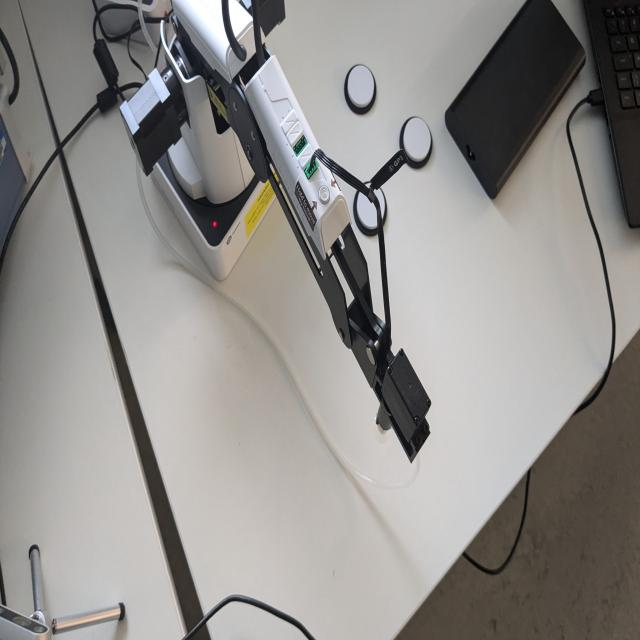Robot-end-effector-HF8z: (372, 336, 437, 466)
